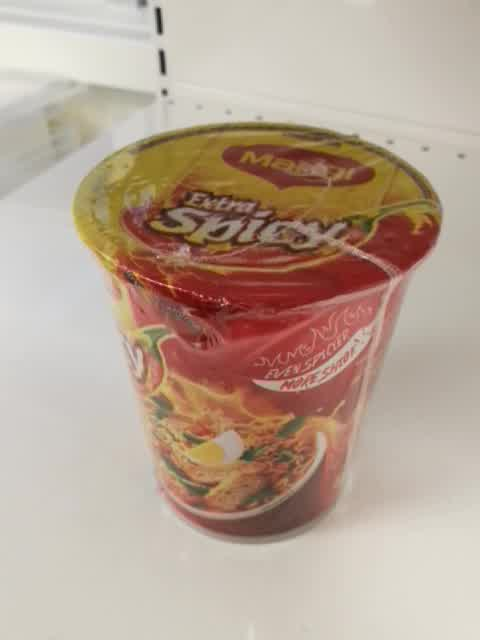maggi: (68, 119, 444, 547)
